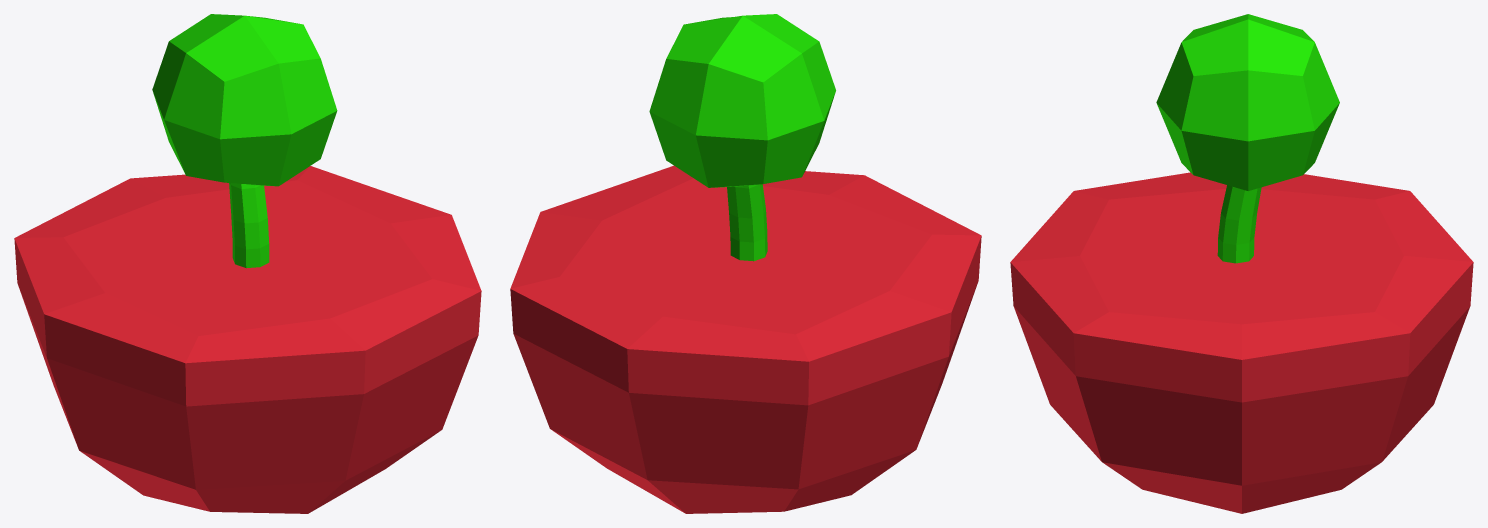
File: Tree and platform.fbx
3 renders of one model, left to right at view 1: azimuth 30°, elevation 25°; view 2: azimuth 150°, elevation 25°; view 3: azimuth 270°, elevation 25°, orthographic. The views are drawn at different scales.
Parts seen in each view (by area): view 1: Platform, Tree; view 2: Platform, Tree; view 3: Platform, Tree.
Boxes of the visible parts, <box> form: Platform: <box>14,166,481,513</box>; Tree: <box>152,14,337,268</box>; Platform: <box>510,165,981,513</box>; Tree: <box>649,14,835,261</box>; Platform: <box>1010,172,1473,513</box>; Tree: <box>1156,14,1339,263</box>.
Size of the model in its own units: 174 by 200 by 174.
